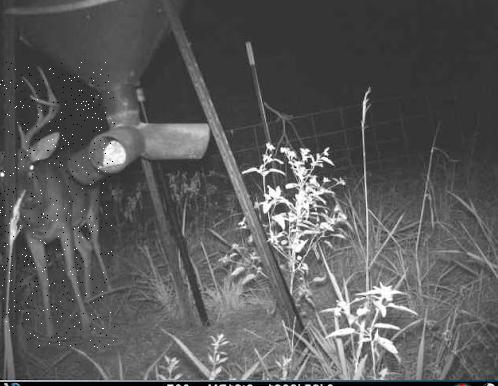Deer: (0, 62, 115, 350)
